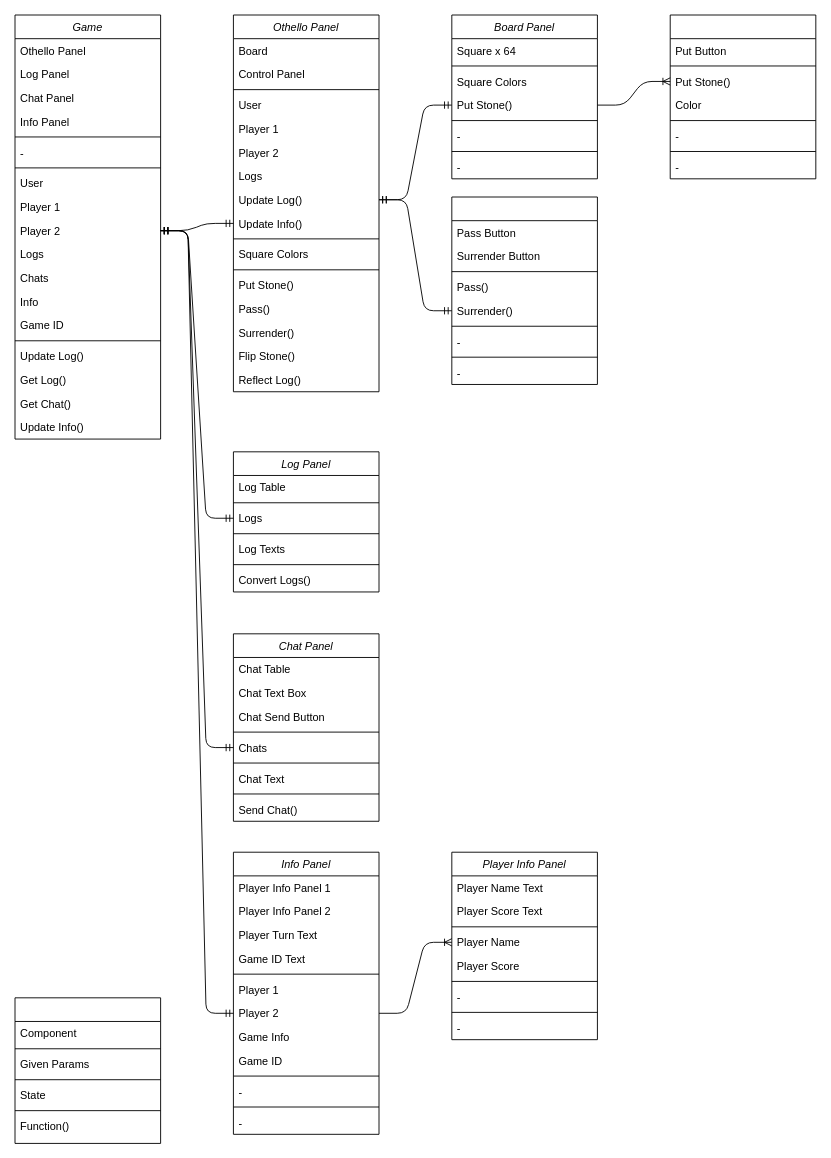
Some shapes in this 831 by 1158 pixel diagram are drawn without their labels. The box of each missing label's shape, as (x1, y1, x2, y2) in pixels:
Class: (14, 997, 161, 1143)
Controll Panel: (451, 196, 597, 384)
Square: (669, 14, 816, 179)
